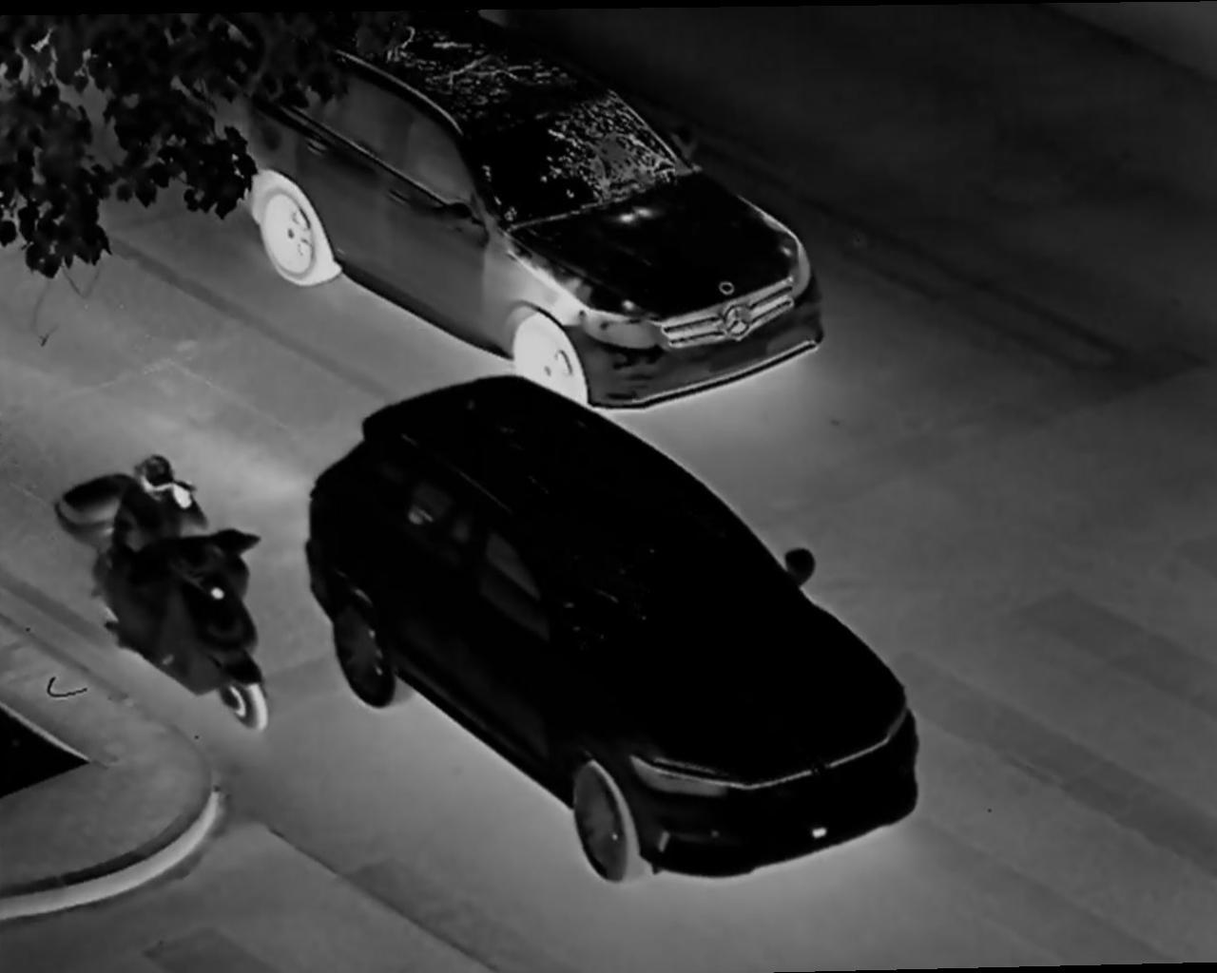person: (110, 448, 211, 634)
